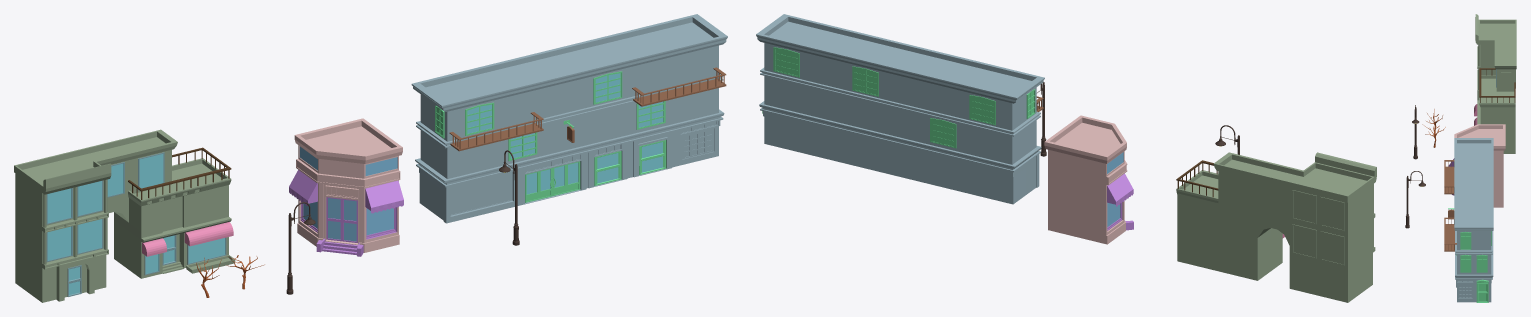
The model's file is Houses.fbx.
3 renders of one model, left to right at view 1: azimuth 30°, elevation 25°; view 2: azimuth 150°, elevation 25°; view 3: azimuth 270°, elevation 25°, orthographic. The views are drawn at different scales.
Parts seen in each view (by area): view 1: House 1, House 2, Shop, lantern rgt, lantern rgt.001; view 2: House 1, House 2, Shop; view 3: House 1, House 2, Shop, lantern rgt.001, lantern rgt, simple tree.001.
Boxes of the visible parts, left/top/right/bottom form: House 1: left=411, top=14, right=727, bottom=223; House 2: left=14, top=129, right=235, bottom=302; Shop: left=289, top=118, right=403, bottom=256; lantern rgt: left=286, top=202, right=315, bottom=294; lantern rgt.001: left=499, top=150, right=519, bottom=245; House 1: left=756, top=14, right=1044, bottom=204; House 2: left=1176, top=152, right=1376, bottom=302; Shop: left=1044, top=115, right=1133, bottom=244; House 1: left=1444, top=138, right=1493, bottom=302; House 2: left=1474, top=14, right=1516, bottom=153; Shop: left=1448, top=124, right=1505, bottom=207; lantern rgt.001: left=1405, top=171, right=1425, bottom=228; lantern rgt: left=1412, top=105, right=1419, bottom=159; simple tree.001: left=1422, top=124, right=1445, bottom=147.
Bounding box in the file's own units: 11462 × 2244 × 2574.
